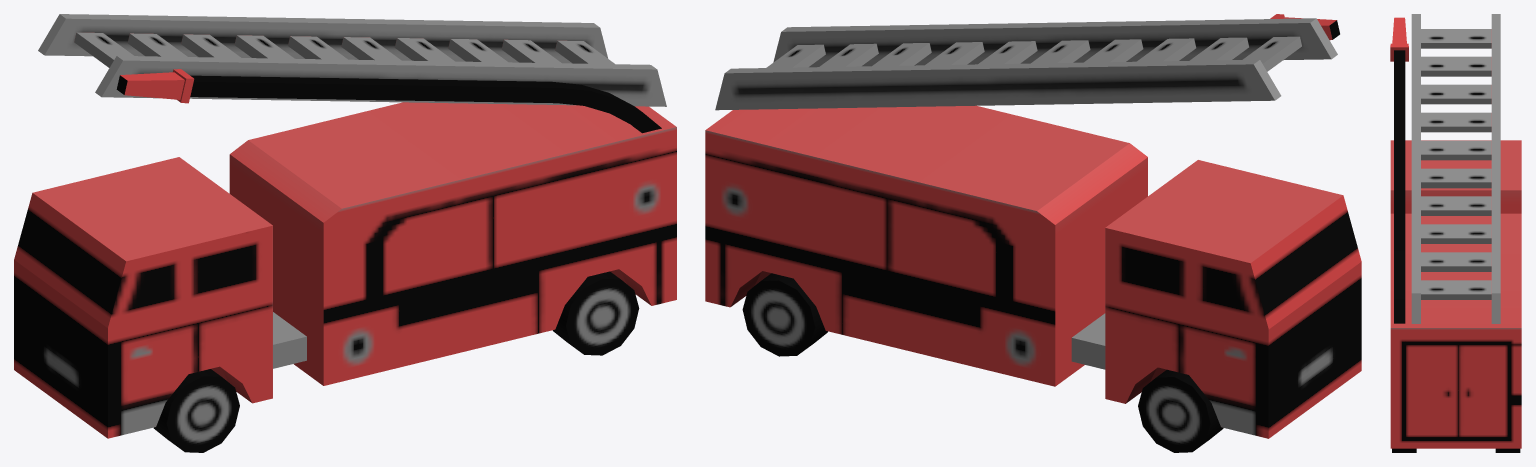
Rendered from FireTruck.fbx.
3 renders of one model, left to right at view 1: azimuth 30°, elevation 25°; view 2: azimuth 150°, elevation 25°; view 3: azimuth 270°, elevation 25°, orthographic. The views are drawn at different scales.
Parts seen in each view (by area): view 1: FireTruck1; view 2: FireTruck1; view 3: FireTruck1.
Part boxes in pixels (box(x1,y1,x2,y2)): FireTruck1: box(14, 14, 676, 452); FireTruck1: box(705, 14, 1361, 452); FireTruck1: box(1390, 14, 1521, 452).
Size of the model in its own units: 2002 by 1327 by 568.
Materials: 1 (1 with a texture image).
